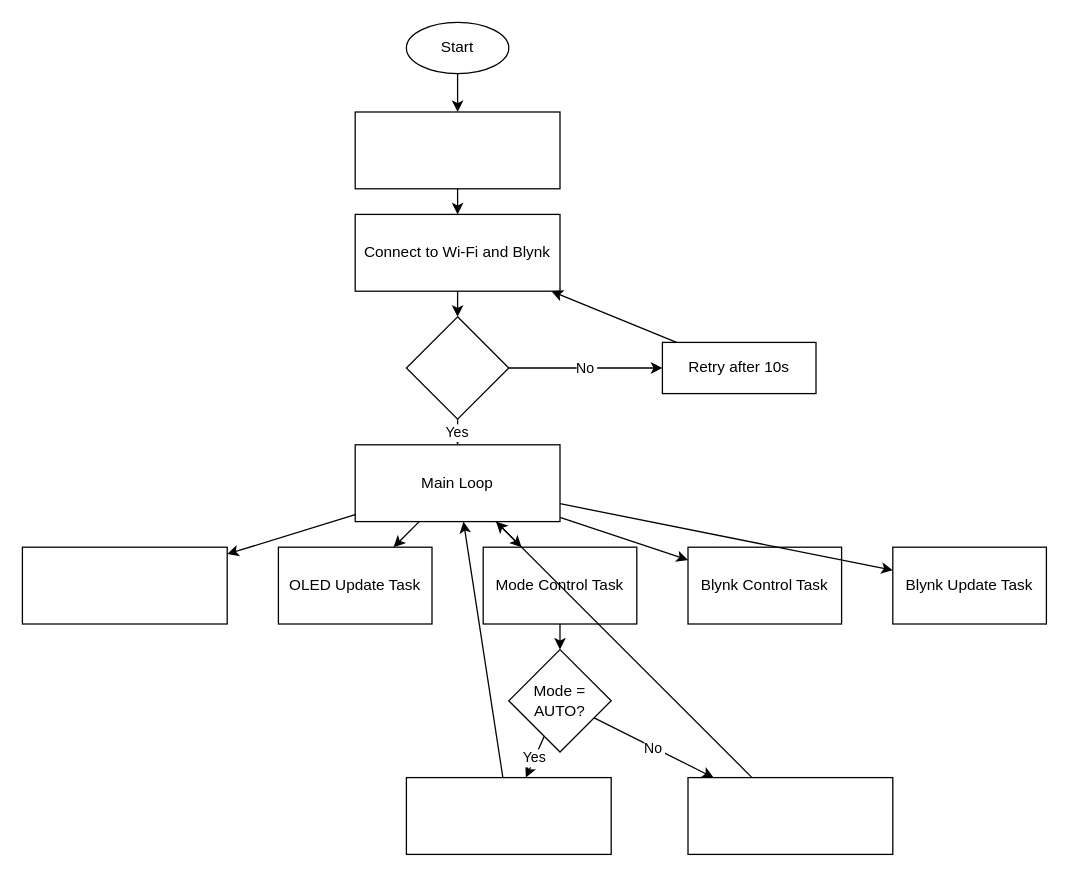
Some shapes in this 1069 by 877 pixel diagram are drawn without their labels. The box of each missing label's shape, as (x1, y1, x2, y2) in pixels:
Auto Control Logic (Servo, Pump, Fan): (405, 776, 611, 854)
Connection Successful?: (405, 316, 509, 419)
Initialize System (Serial, I2C, Pins, Servo, OLED): (354, 111, 560, 189)
Process Blynk Commands: (687, 776, 893, 854)
Sensor Tasks (DHT11, Soil, MQ135, Rain, Light): (21, 546, 227, 624)
